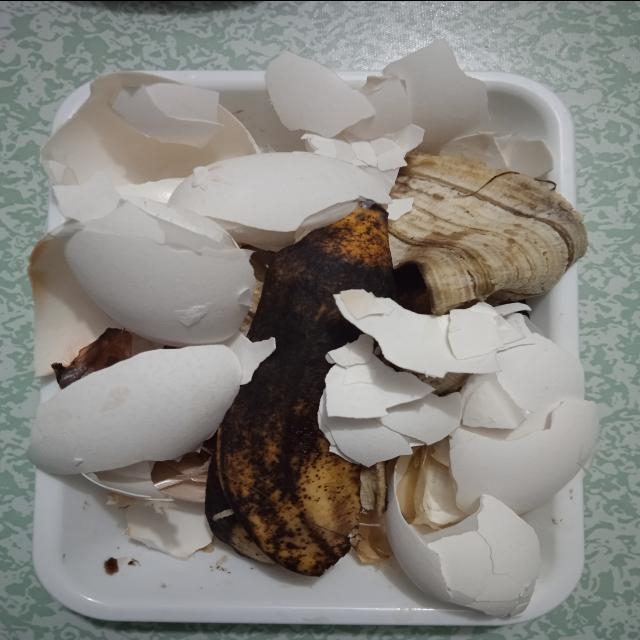egg shell: (392, 314, 598, 616), (24, 342, 278, 502), (37, 68, 261, 224), (262, 39, 488, 170), (64, 200, 256, 346), (163, 148, 415, 252), (316, 330, 460, 464), (330, 286, 504, 376), (264, 48, 376, 136), (324, 354, 434, 416), (446, 300, 522, 358), (459, 372, 533, 430), (52, 168, 126, 221), (338, 288, 381, 320)
